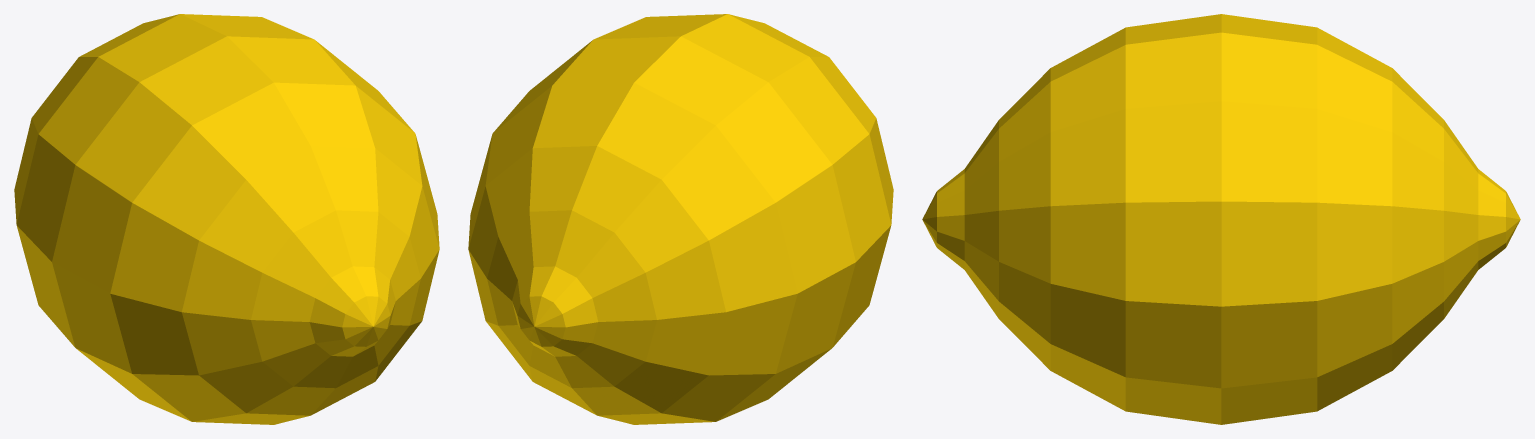
The model's file is lemon.fbx.
3 renders of one model, left to right at view 1: azimuth 30°, elevation 25°; view 2: azimuth 150°, elevation 25°; view 3: azimuth 270°, elevation 25°, orthographic. The views are drawn at different scales.
Parts seen in each view (by area): view 1: lemon; view 2: lemon; view 3: lemon.
Part boxes in pixels (<box>): lemon: <box>14,14,439,424</box>; lemon: <box>468,14,893,424</box>; lemon: <box>922,14,1520,424</box>.
Bounding box in the file's own units: 82.69 × 82.69 × 120.
